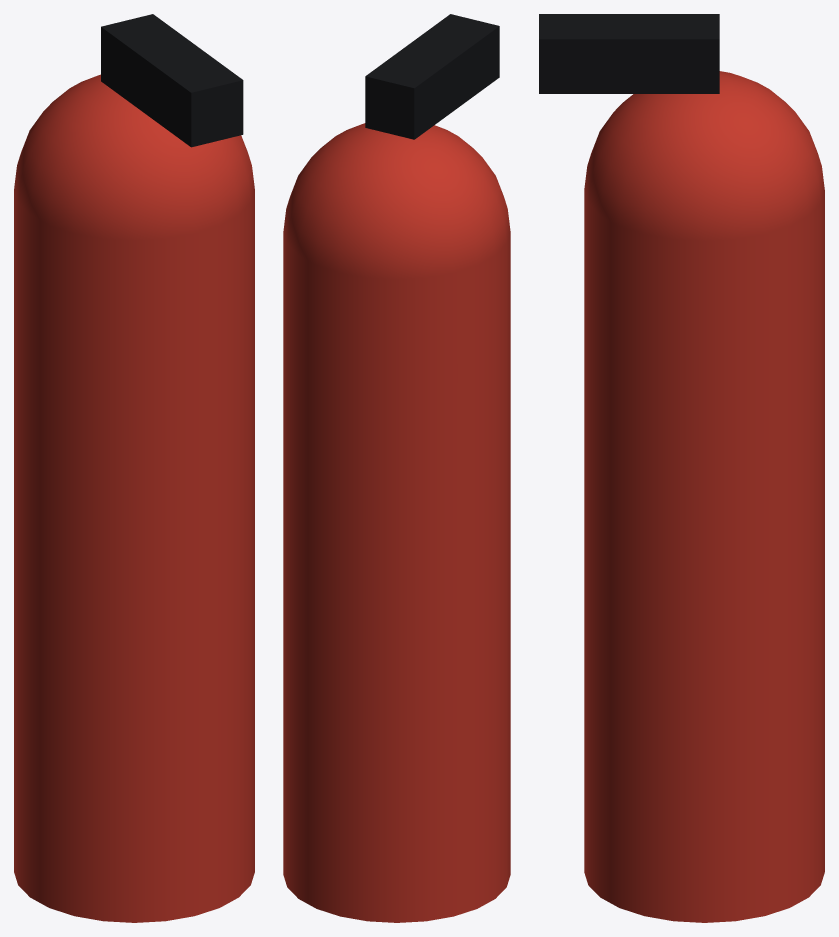
Rendered from extinguisher.glb.
3 views of the same model, side by side, from view 1: azimuth 30°, elevation 25°; view 2: azimuth 150°, elevation 25°; view 3: azimuth 270°, elevation 25° (orthographic). The views are drawn at different scales.
Parts seen in each view (by area): view 1: ext; view 2: ext; view 3: ext.
Boxes of the visible parts, bbox=[...] form: ext: bbox=[14, 14, 254, 922]; ext: bbox=[283, 14, 510, 922]; ext: bbox=[539, 14, 824, 922].
Bounding box in the file's own units: 0.16 × 0.62 × 0.19.
